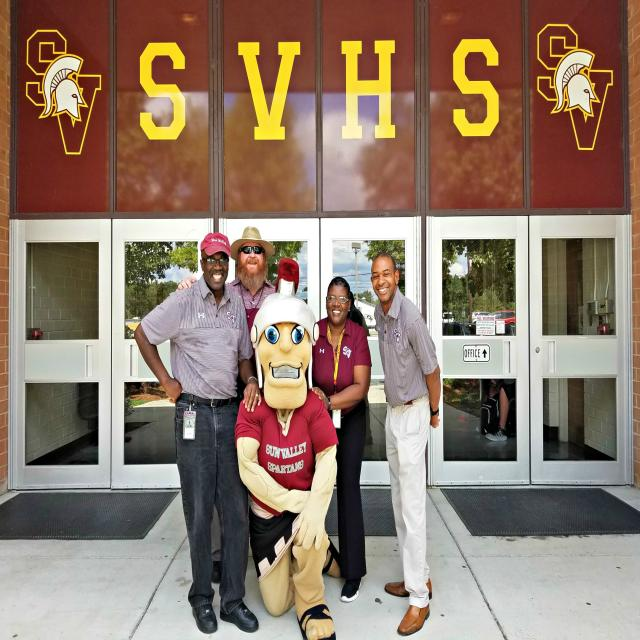body: (131, 224, 264, 639), (230, 256, 341, 640), (369, 248, 445, 638), (311, 273, 373, 604), (228, 225, 277, 341), (457, 379, 517, 441), (364, 402, 393, 456), (347, 290, 368, 332)
